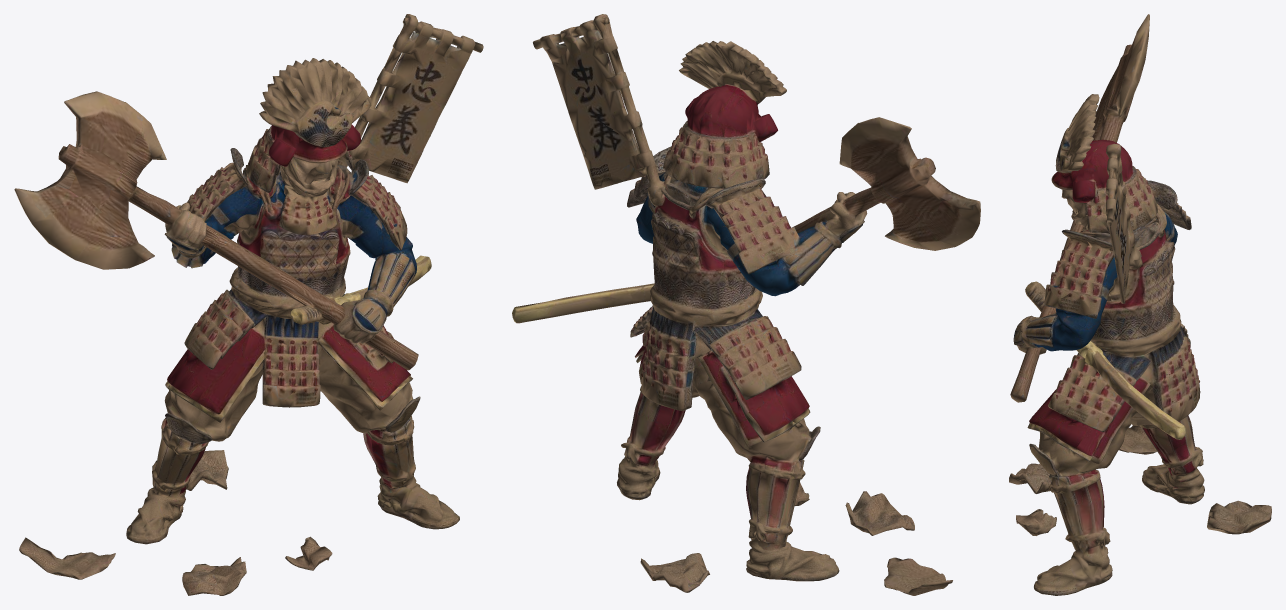
File: samurai-warrior.glb
3 views of the same model, side by side, from view 1: azimuth 30°, elevation 25°; view 2: azimuth 150°, elevation 25°; view 3: azimuth 270°, elevation 25° (orthographic). The views are drawn at different scales.
Size of the model in its own units: 1.87 by 1.89 by 1.
Materials: 1 (1 with a texture image).
